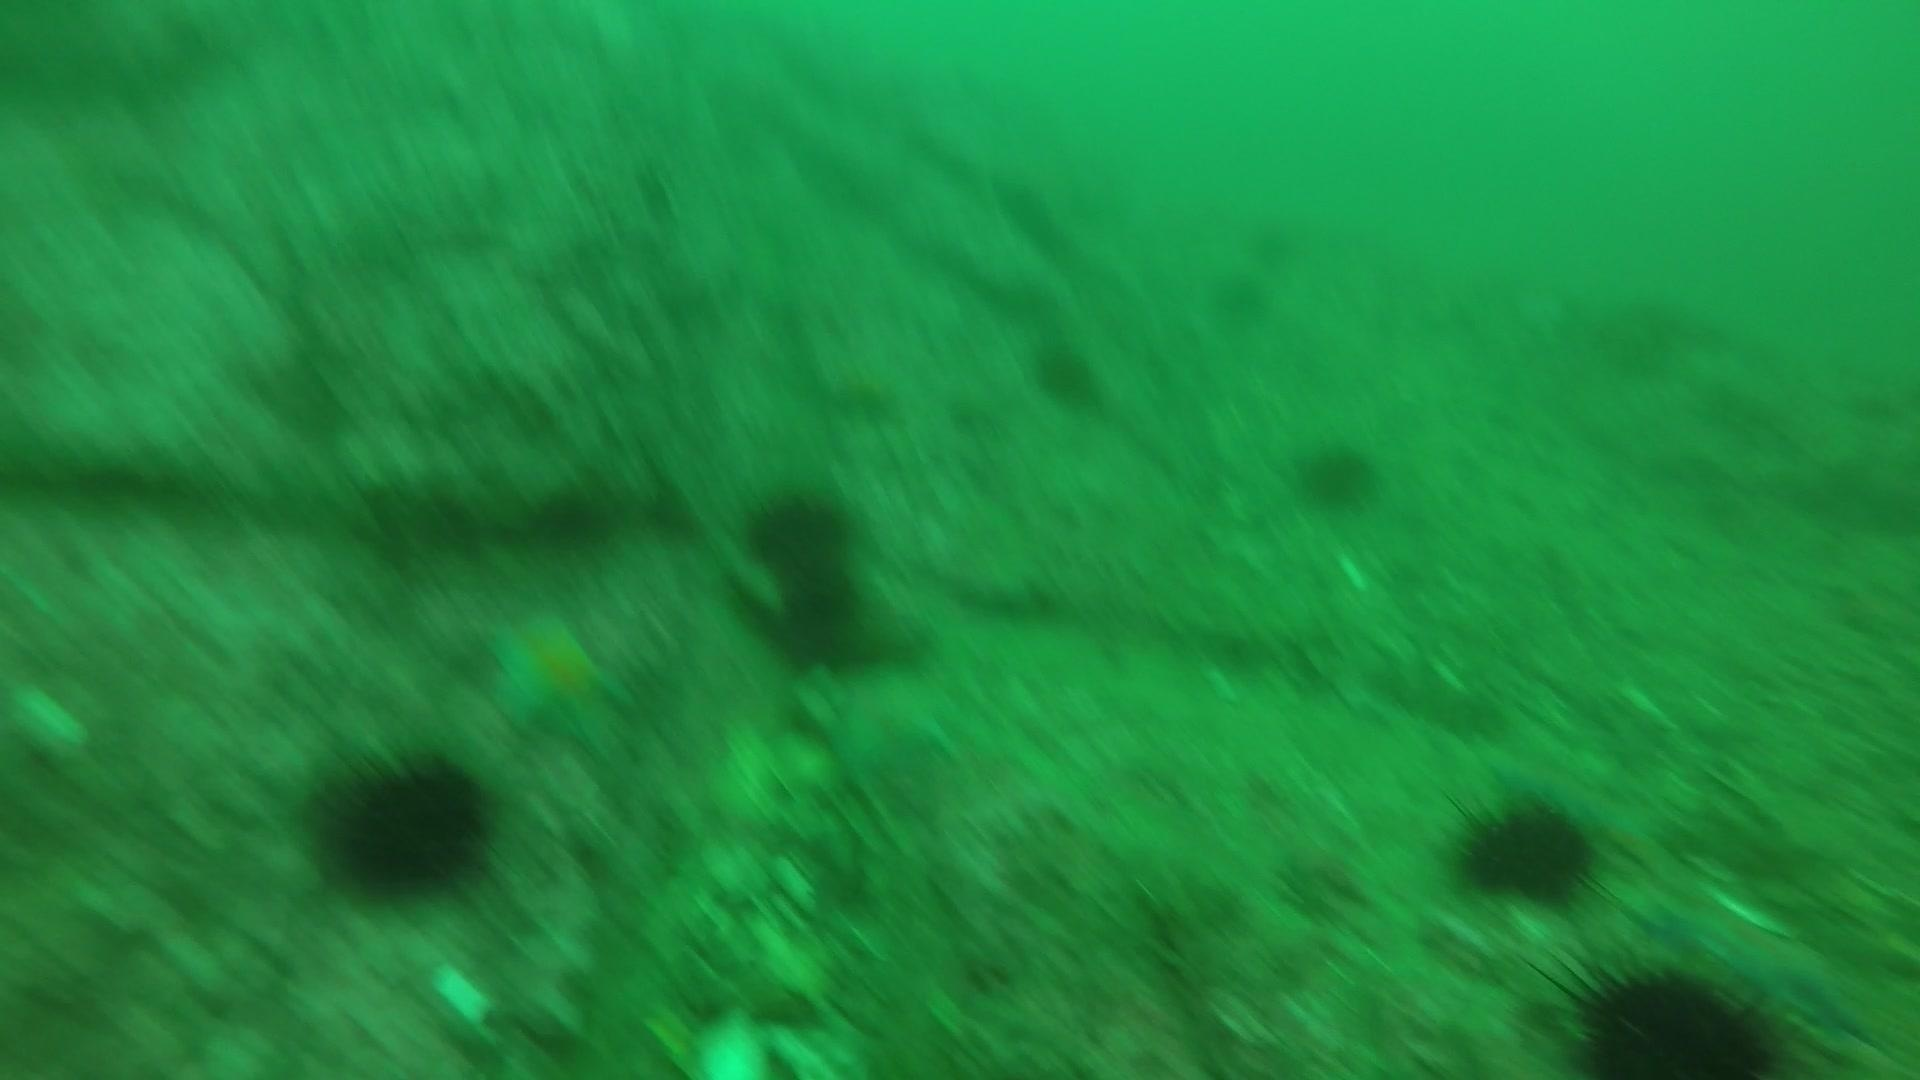echinus: (309, 742, 501, 905), (1555, 955, 1789, 1076), (1445, 787, 1604, 909), (762, 554, 872, 673), (740, 483, 858, 571), (1291, 433, 1383, 514), (1026, 335, 1106, 411), (1207, 266, 1276, 328)
starfish: (1638, 891, 1879, 1039), (791, 654, 968, 794), (479, 605, 632, 752)
